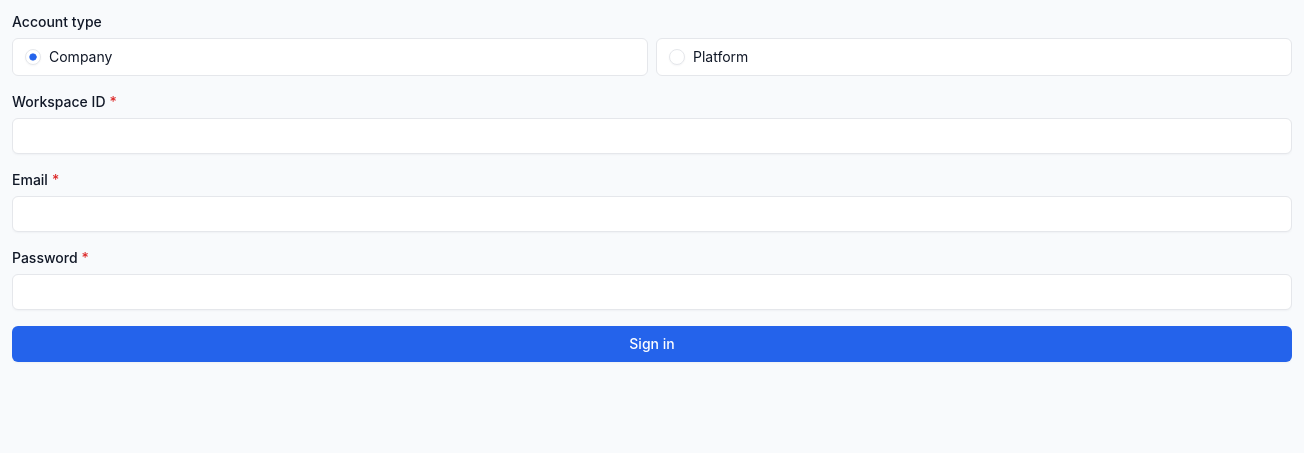
Test: authentication forms › does not redirect unauthenticated login attempts
This screenshot has width=1304, height=453.
Step 1. Type "company_123" into the field labelled "Workspace ID*" → {"x": 652, "y": 136}, box [12,118,1292,154]
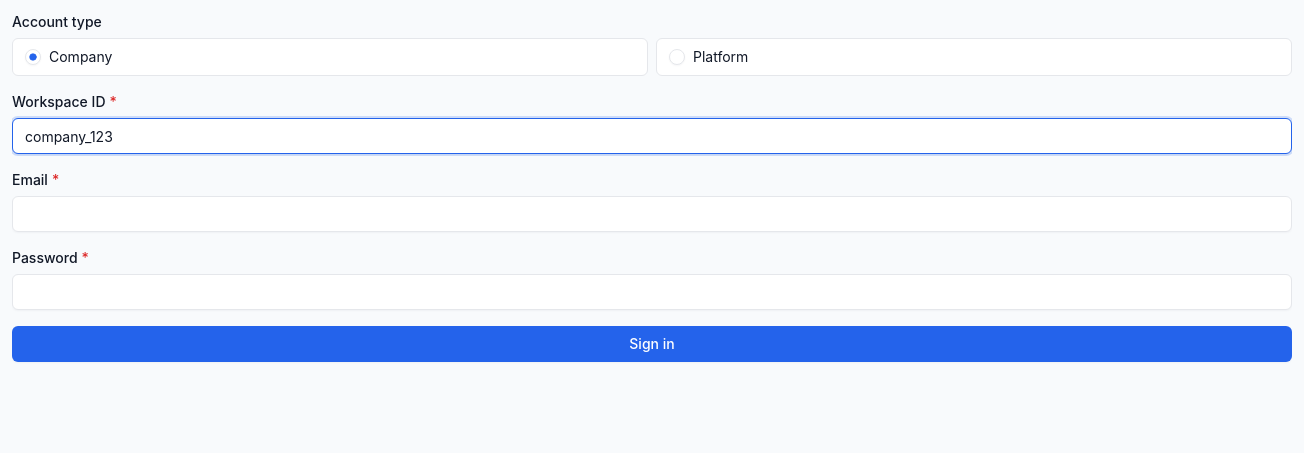
Step 2. Type "mira@example.com" into the field labelled "Email*" → {"x": 652, "y": 214}, box [12,196,1292,232]
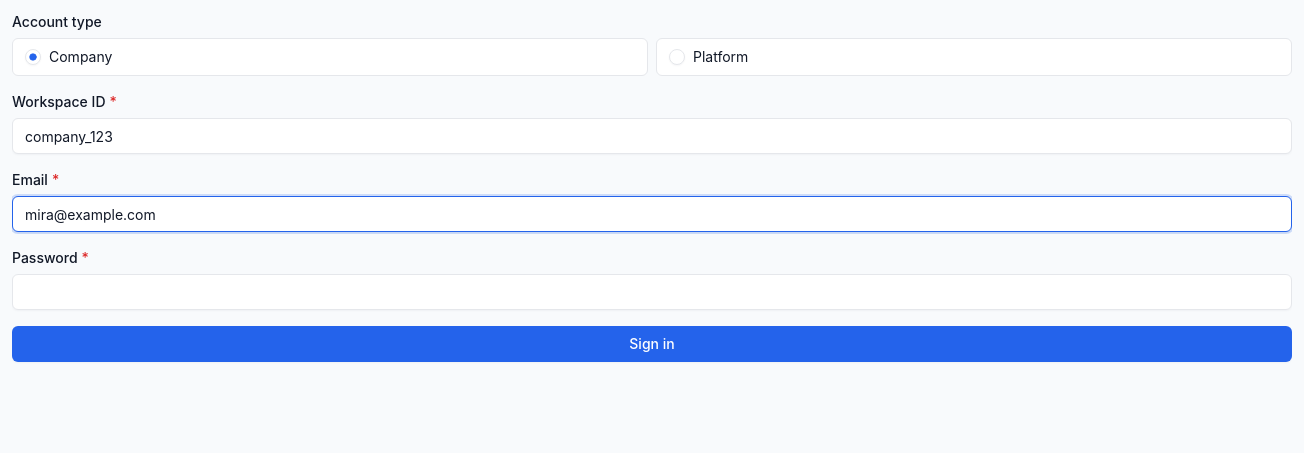
Step 3. Type "wrong password" into the password field labelled "Password*" → {"x": 652, "y": 292}, box [12,274,1292,310]
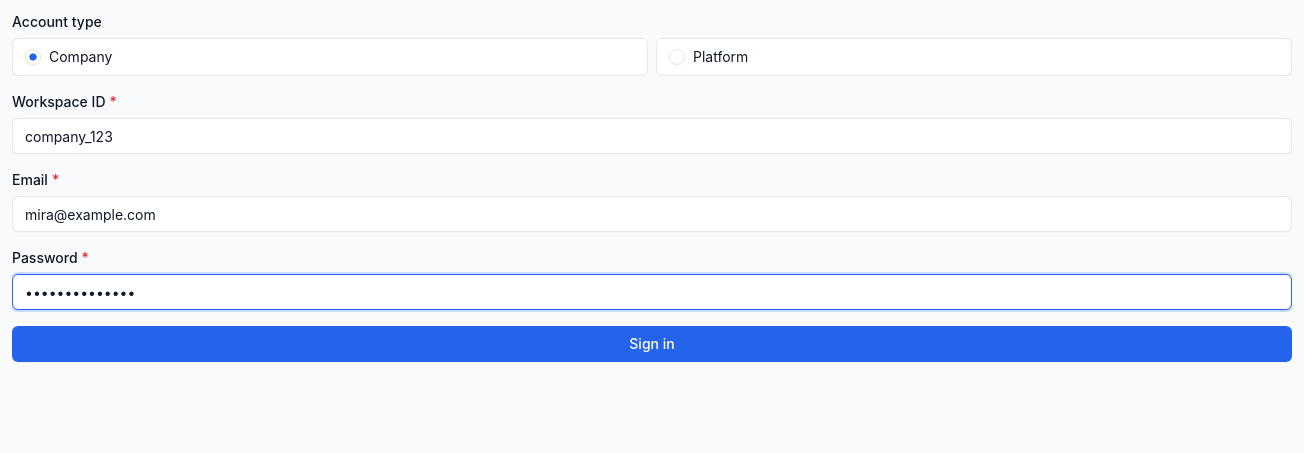
Step 4. Click the button "Sign in" → {"x": 652, "y": 344}, box [12,326,1292,362]
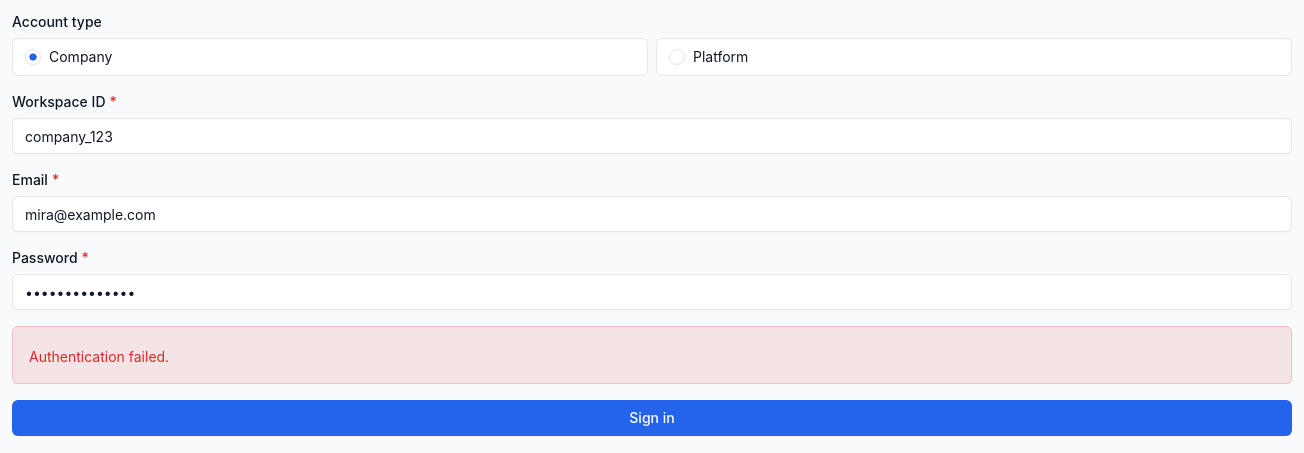
Check: the text "Authentication failed." is shown, box [29,348,169,365]
